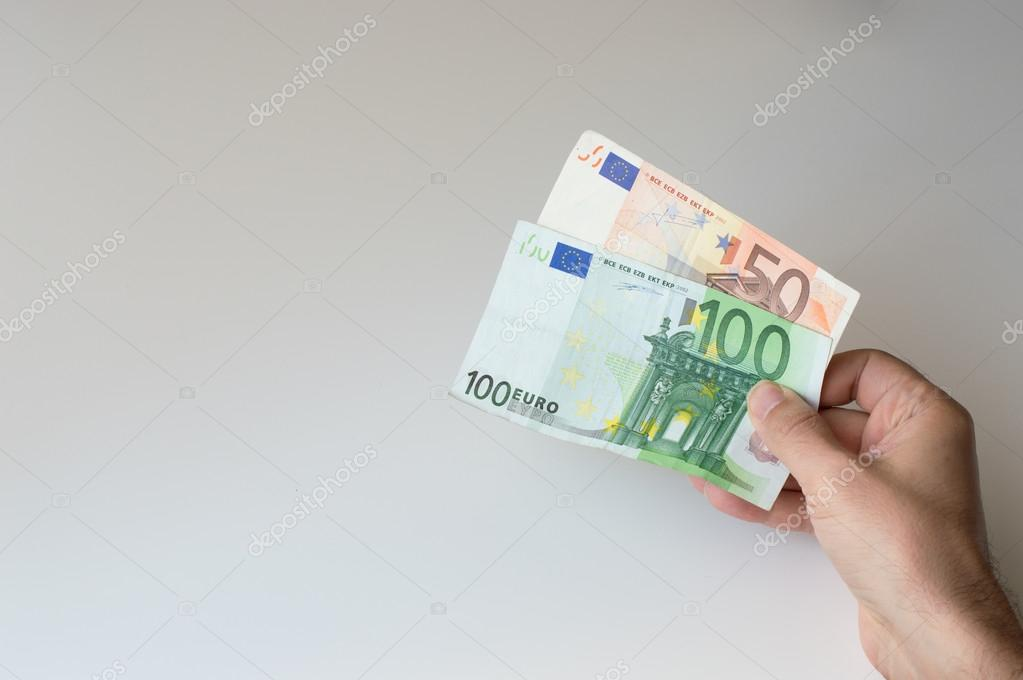billete: (445, 218, 837, 515), (534, 128, 866, 379)
